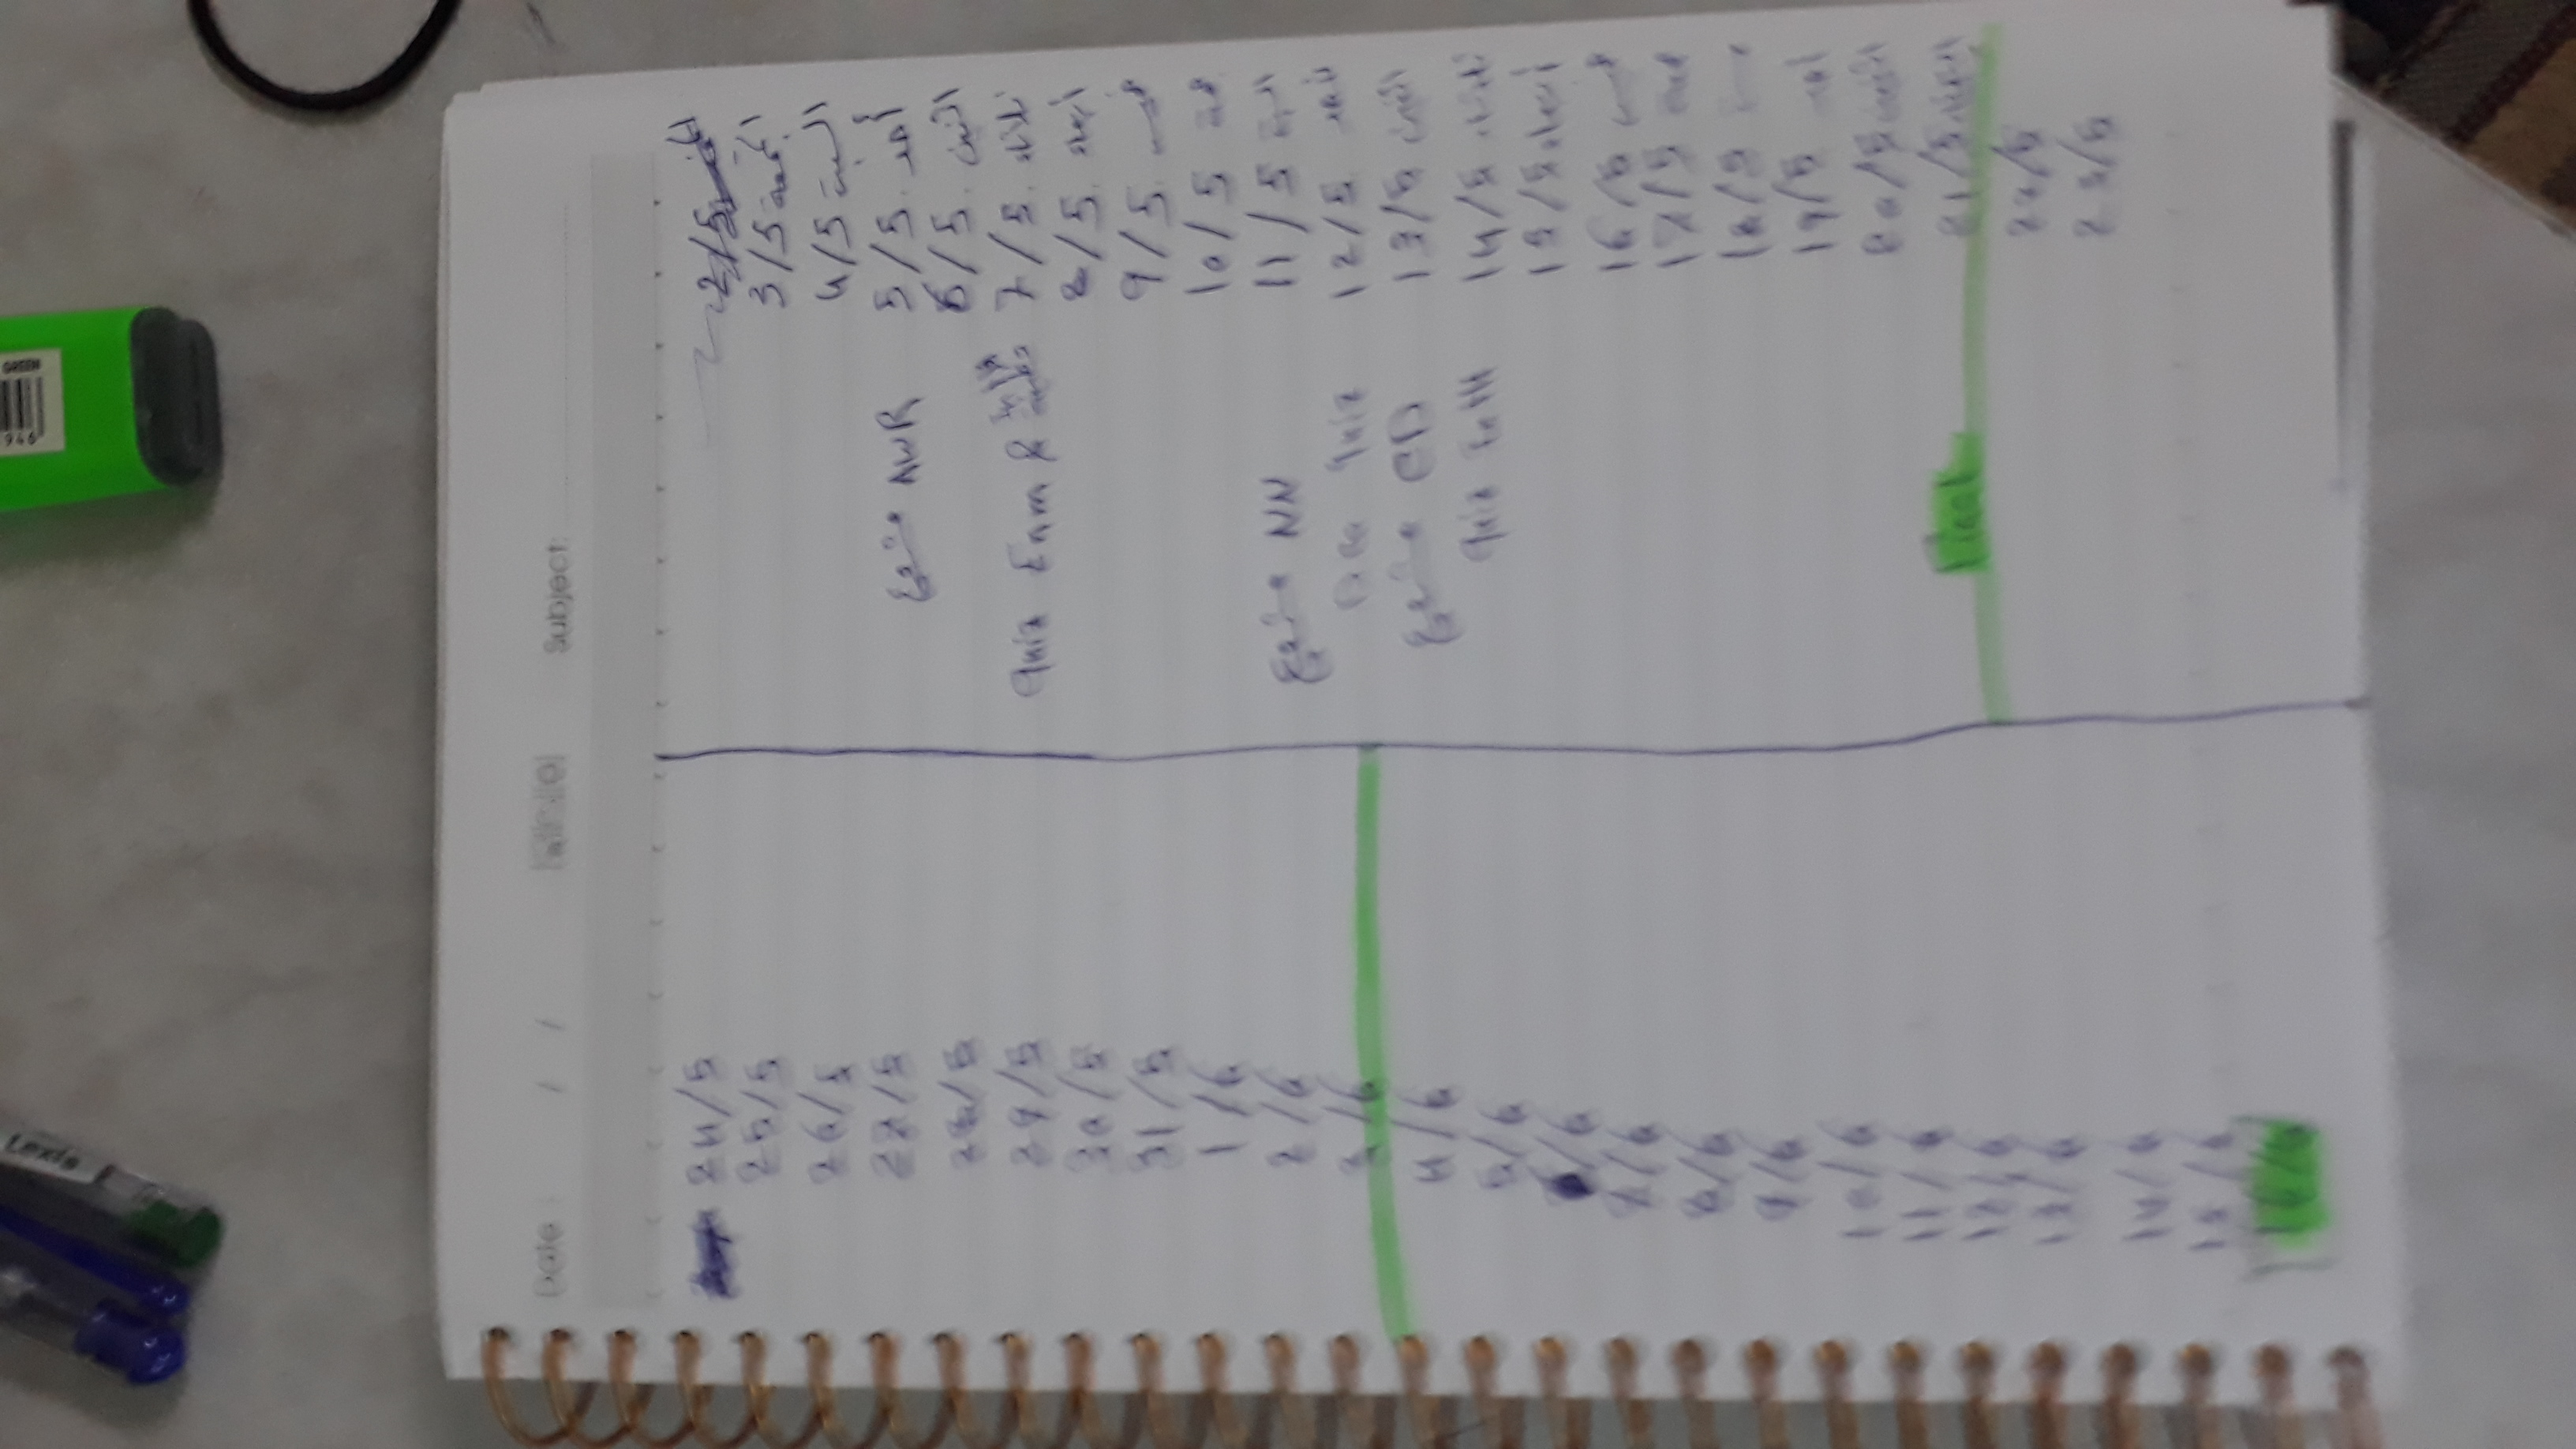dftar: (403, 9, 2410, 1415)
